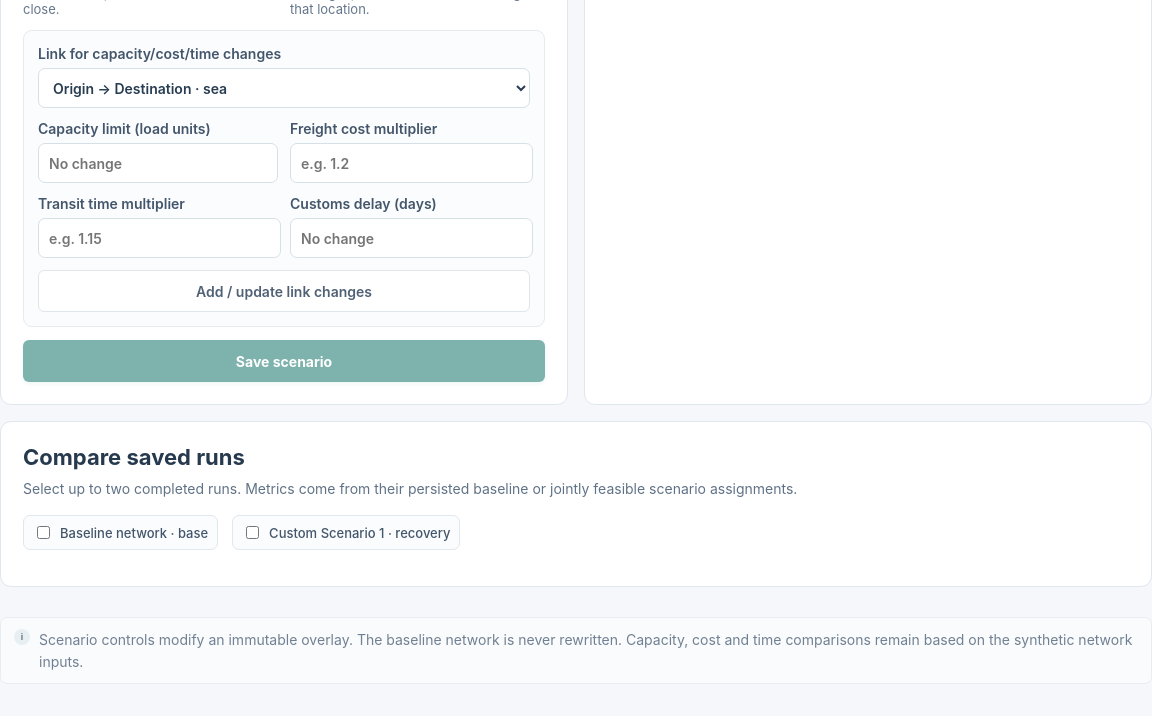
Test case: ScenarioBuilder › compares persisted feasible run results instead of invented scenario outputs
(page scrolled)
What coordinates should you click on to do the following:
click the checkbox labelled "Baseline network · base"
I would click on:
 (44, 532)
Its box is [37,526,50,539].
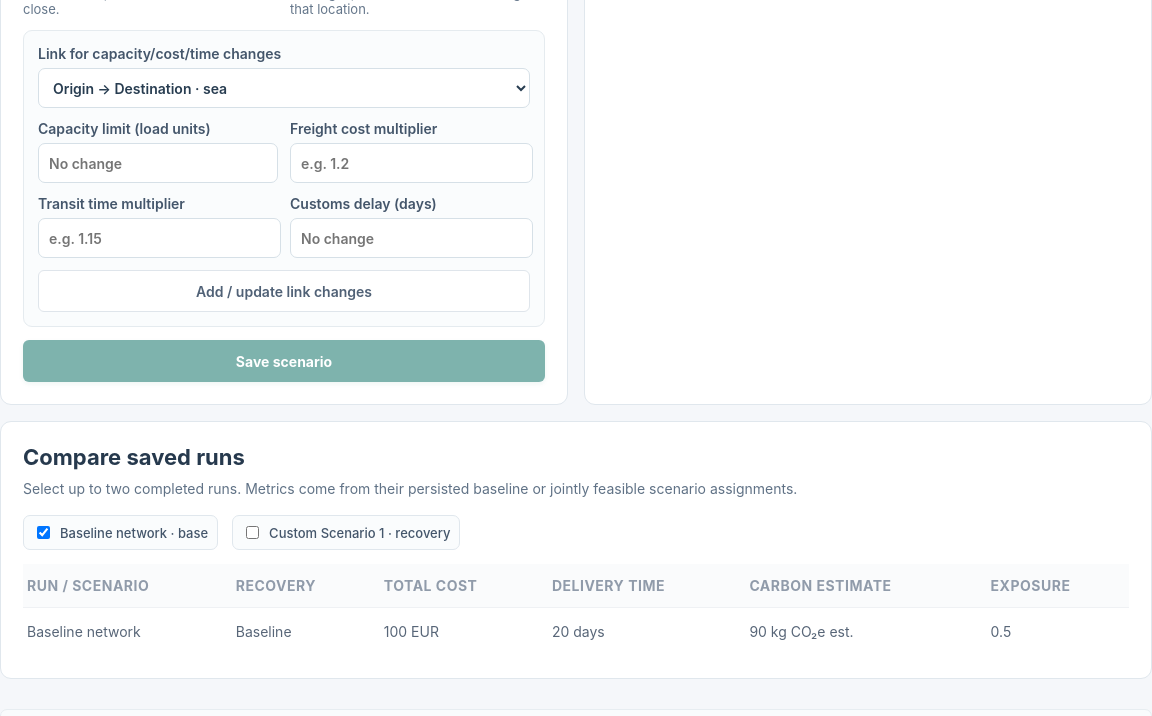
What coordinates should you click on to do the following:
click the checkbox labelled "Custom Scenario 1 · recovery"
I would click on:
 (253, 532)
Its box is [246,526,259,539].
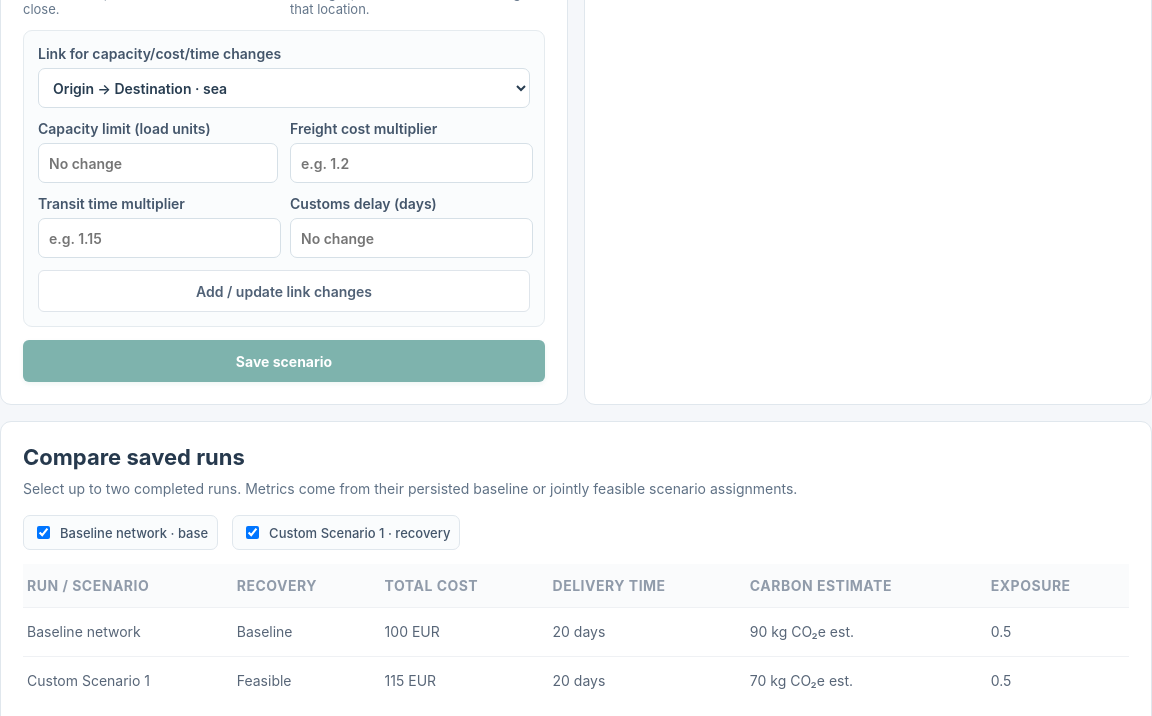
Expected: the text "Feasible" is shown, [228,656,376,705]
